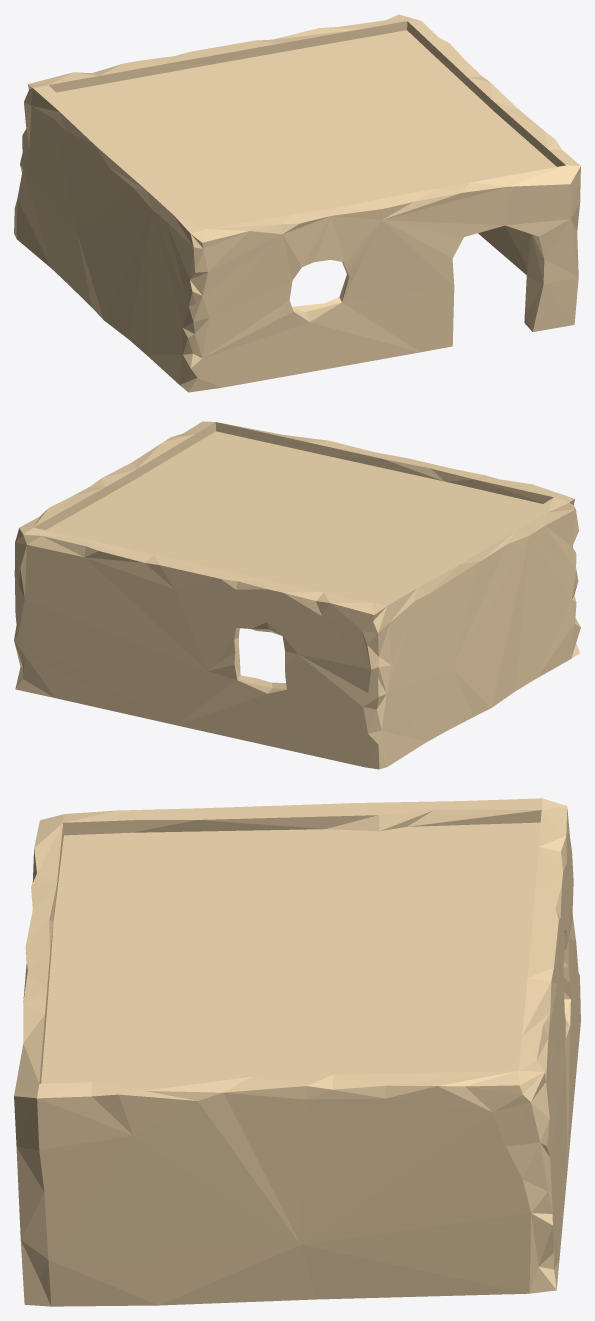
Rendered from House_Block_7_low.fbx.
3 views of the same model, one above another, from view 1: azimuth 30°, elevation 25°; view 2: azimuth 150°, elevation 25°; view 3: azimuth 270°, elevation 25° (orthographic). The views are drawn at different scales.
Visible parts, largest first — view 1: House_Block_7_low; view 2: House_Block_7_low; view 3: House_Block_7_low.
Boxes of the visible parts, box(x1,y1,x2,y2) form: House_Block_7_low: box(14, 14, 580, 392); House_Block_7_low: box(14, 421, 580, 769); House_Block_7_low: box(14, 798, 580, 1306).
Bounding box in the file's own units: 7.38 × 3.31 × 6.47.
